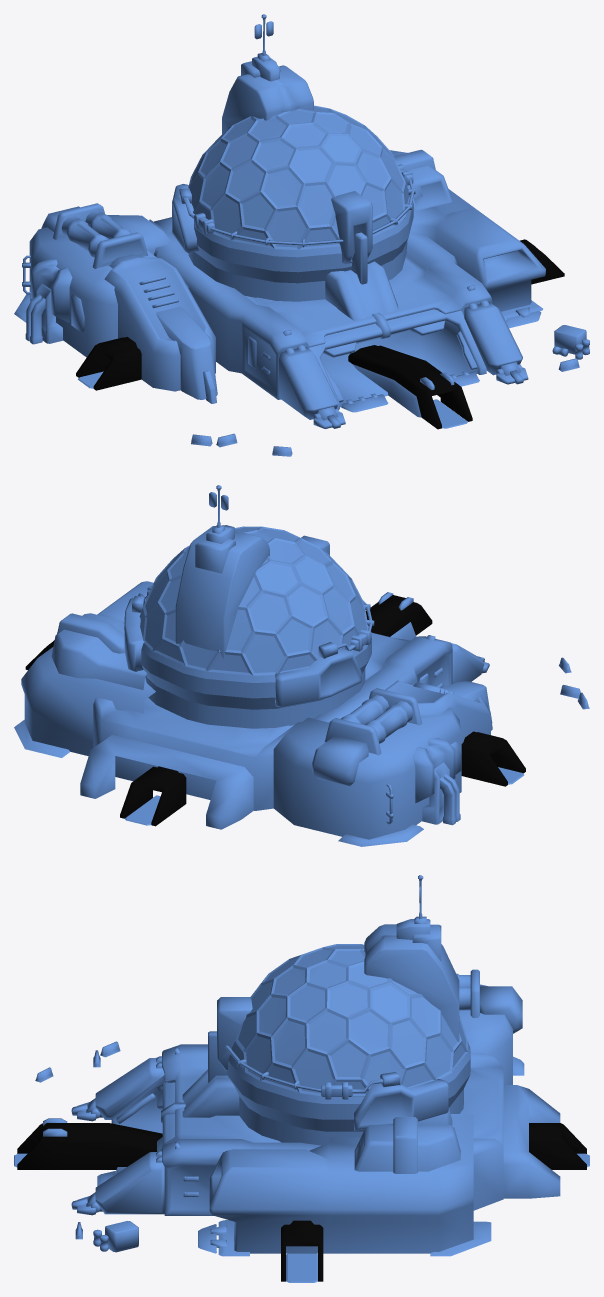
Rendered from ctm_bld_zhujidi_mod.fbx.
The picture shows the model from 3 angles, top to bottom: view 1: azimuth 30°, elevation 25°; view 2: azimuth 150°, elevation 25°; view 3: azimuth 270°, elevation 25°; orthographic projection. The views are drawn at different scales.
Visible parts, largest first — view 1: zhujidi_all2; view 2: zhujidi_all2; view 3: zhujidi_all2.
Boxes of the visible parts, x1,y1,x2,y2 form: zhujidi_all2: [14, 14, 589, 456]; zhujidi_all2: [14, 485, 589, 846]; zhujidi_all2: [14, 875, 589, 1282].
Bounding box in the file's own units: 2020 × 1108 × 2017.
